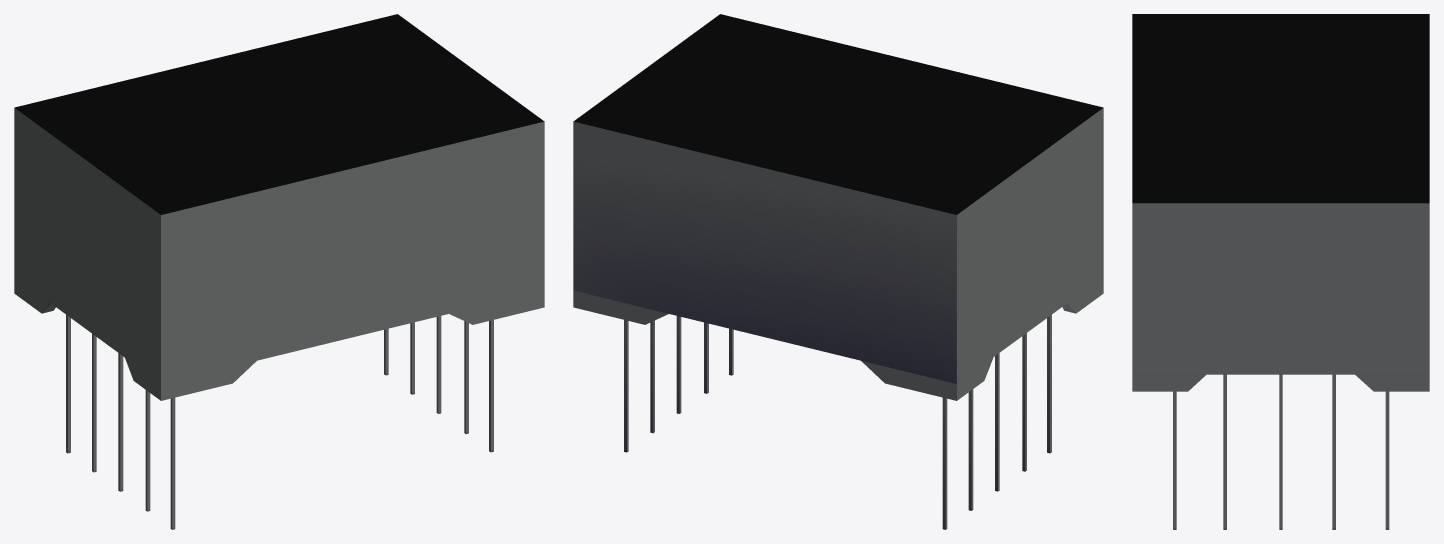
3 views of the same model, side by side, from view 1: azimuth 30°, elevation 25°; view 2: azimuth 150°, elevation 25°; view 3: azimuth 270°, elevation 25° (orthographic).
Visible parts, largest first — view 1: Cube, Cube.001, Cube.003, Cube.011, Cube.010, Cube.008, Cube.009, Cube.006; view 2: Cube, Cube.001, Cube.009, Cube.008, Cube.003, Cube.011, Cube.010, Cube.004; view 3: Cube, Cube.001, Cube.004, Cube.002, Cube.005, Cube.007, Cube.006.
Part boxes in pixels (x1=…): Cube: x1=14, y1=14, x2=544, y2=383; Cube.001: x1=14, y1=277, x2=544, y2=400; Cube.003: x1=118, y1=353, x2=123, y2=491; Cube.011: x1=170, y1=397, x2=175, y2=529; Cube.010: x1=145, y1=390, x2=150, y2=511; Cube.008: x1=92, y1=334, x2=96, y2=472; Cube.009: x1=66, y1=315, x2=70, y2=453; Cube.006: x1=489, y1=320, x2=493, y2=452; Cube: x1=573, y1=14, x2=1103, y2=383; Cube.001: x1=573, y1=277, x2=1103, y2=400; Cube.009: x1=942, y1=397, x2=947, y2=529; Cube.008: x1=968, y1=389, x2=973, y2=510; Cube.003: x1=995, y1=353, x2=999, y2=491; Cube.011: x1=1047, y1=315, x2=1051, y2=453; Cube.010: x1=1022, y1=333, x2=1026, y2=471; Cube.004: x1=624, y1=320, x2=628, y2=452; Cube: x1=1132, y1=14, x2=1429, y2=374; Cube.001: x1=1132, y1=374, x2=1429, y2=391; Cube.004: x1=1385, y1=391, x2=1389, y2=529; Cube.002: x1=1279, y1=374, x2=1282, y2=529; Cube.005: x1=1332, y1=374, x2=1335, y2=529; Cube.007: x1=1223, y1=374, x2=1226, y2=529; Cube.006: x1=1173, y1=391, x2=1176, y2=529.
Bounding box in the file's own units: 0.19 × 0.1597 × 0.126.
Materials: 2 (2 with a texture image).
